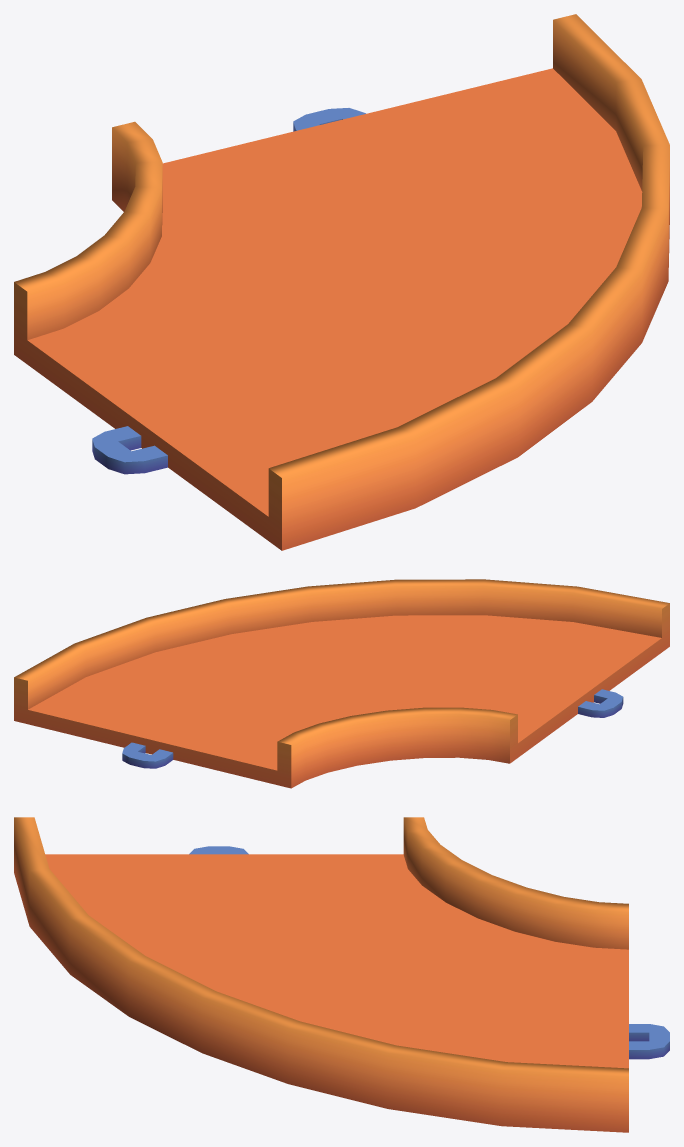
Rendered from kenney-toy-car-track-wide-corner-small.glb.
3 renders of one model, top to bottom at view 1: azimuth 30°, elevation 25°; view 2: azimuth 150°, elevation 25°; view 3: azimuth 270°, elevation 25°, orthographic. The views are drawn at different scales.
Parts seen in each view (by area): view 1: track-wide-corner-small; view 2: track-wide-corner-small; view 3: track-wide-corner-small.
Part boxes in pixels (x1,y1,x2,y2): track-wide-corner-small: [14, 14, 669, 550]; track-wide-corner-small: [14, 579, 669, 788]; track-wide-corner-small: [14, 817, 669, 1132].
Size of the model in its own units: 3.2 by 0.3 by 3.2.
1 material, 1 textured.
